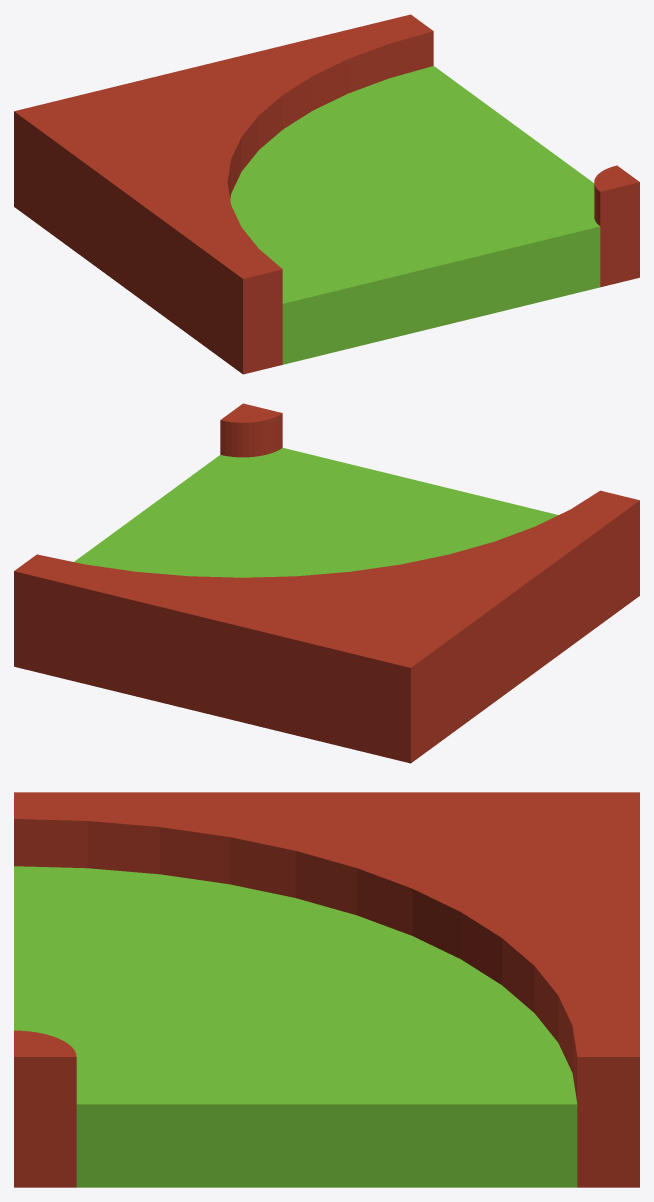
The model's file is Corner_Round_02.FBX.
The picture shows the model from 3 angles, top to bottom: view 1: azimuth 30°, elevation 25°; view 2: azimuth 150°, elevation 25°; view 3: azimuth 270°, elevation 25°; orthographic projection. The views are drawn at different scales.
Visible parts, largest first — view 1: Round_corner_2_01, Walls; view 2: Walls, Round_corner_2_01; view 3: Round_corner_2_01, Walls.
Boxes of the visible parts, x1,y1,x2,y2 form: Round_corner_2_01: [230, 66, 600, 364]; Walls: [14, 14, 639, 374]; Walls: [14, 403, 639, 763]; Round_corner_2_01: [74, 448, 558, 577]; Round_corner_2_01: [14, 866, 577, 1187]; Walls: [14, 792, 639, 1187].
Size of the model in its own units: 0.9999 by 0.9999 by 0.23.
